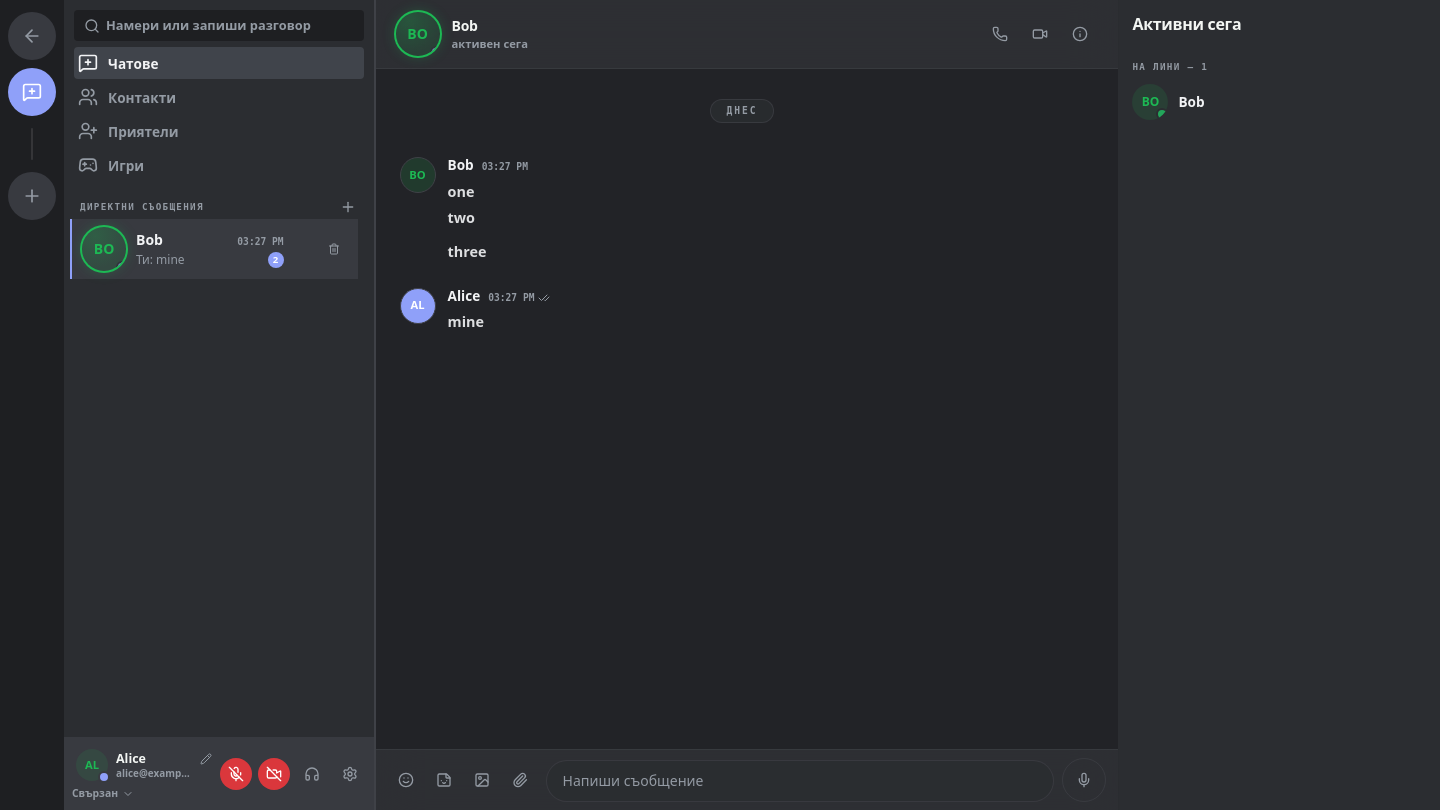
Scenario: presence status › offers all four choices in the menu
What coordinates should you click on to do the following:
click the button with aria-label "На линия"
I would click on:
 (141, 794)
Its box is [68,785,214,802].
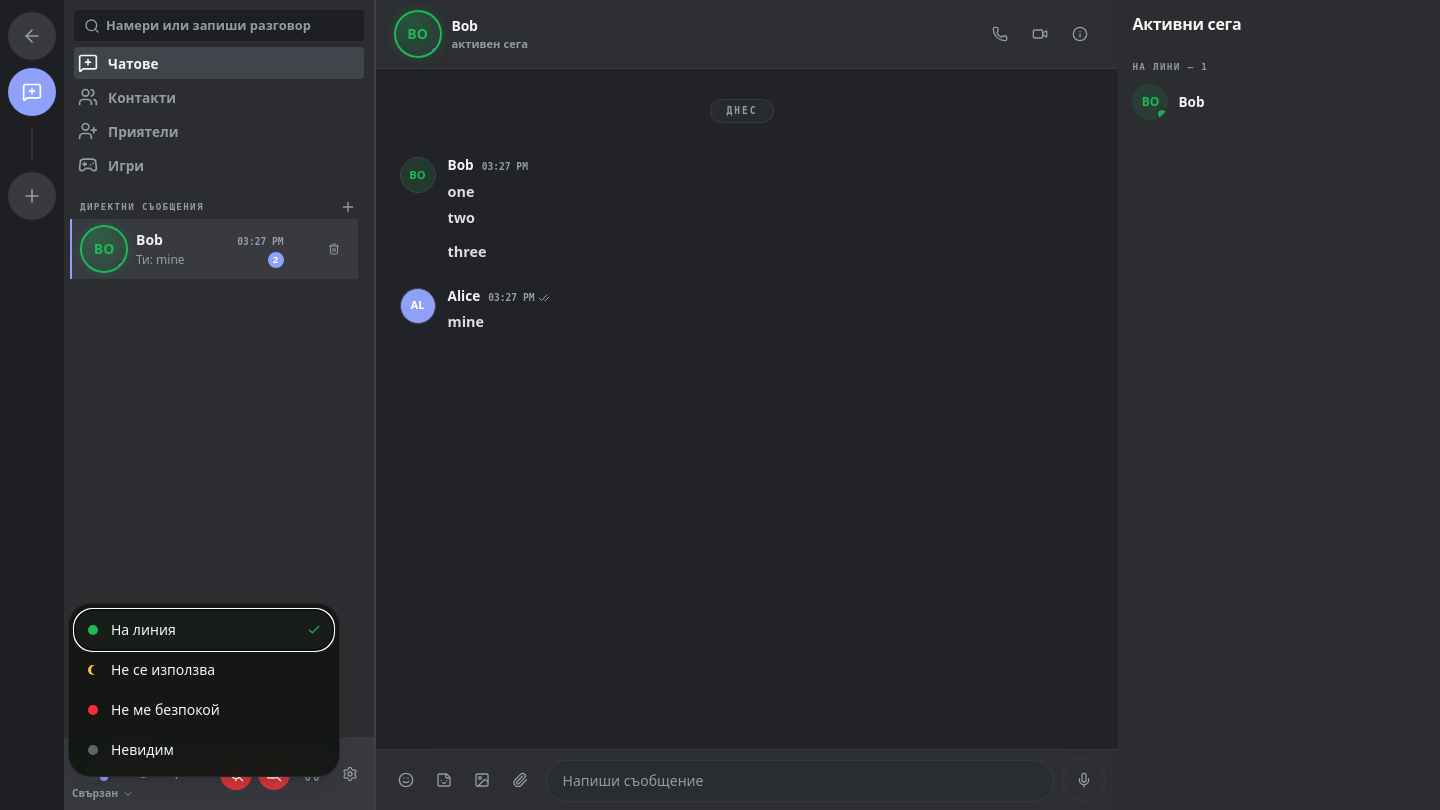
Expected: the text "На линия" is shown, [111,620,176,639]
Expected: the text "Не се използва" is shown, [111,660,215,679]
Expected: the text "Не ме безпокой" is shown, [111,700,220,719]
